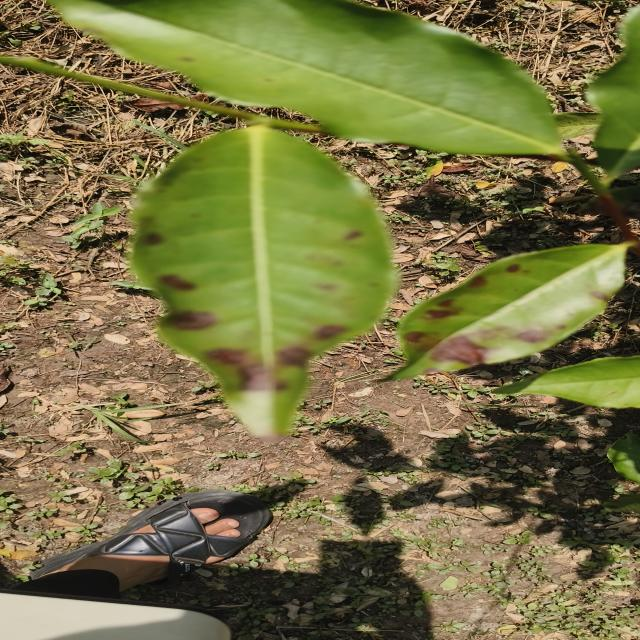Leaf: (130, 126, 394, 438), (52, 0, 560, 155), (389, 244, 626, 379), (588, 7, 640, 179), (499, 356, 640, 408)
